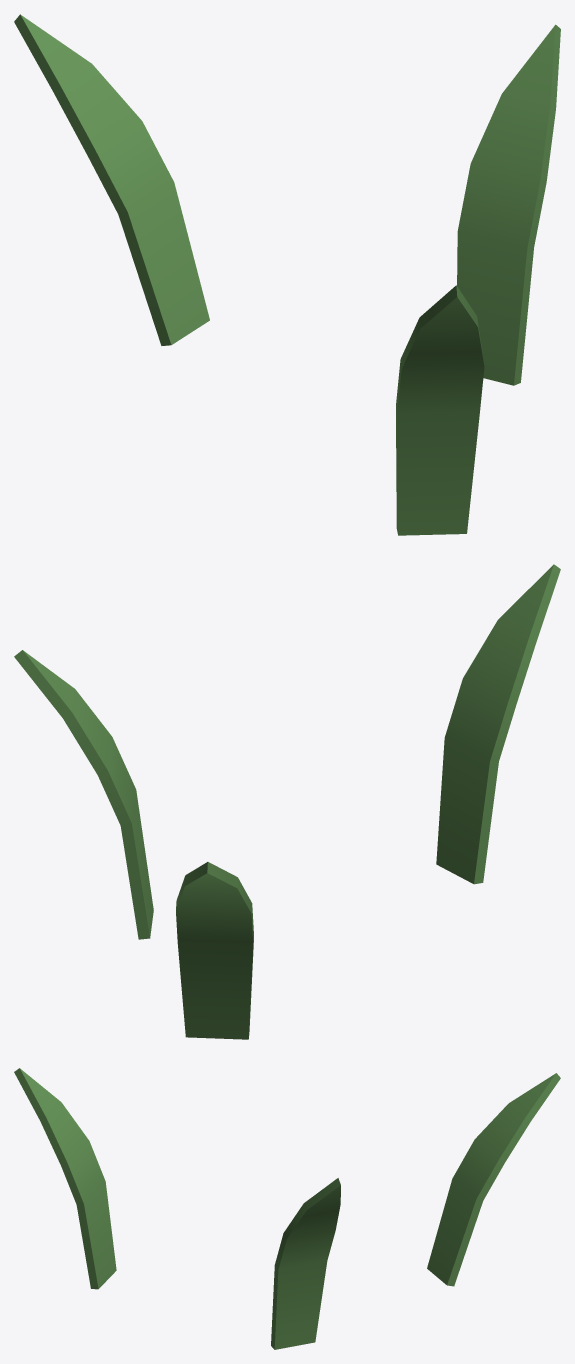
Rendered from Herbe_04.fbx.
The picture shows the model from 3 angles, top to bottom: view 1: azimuth 30°, elevation 25°; view 2: azimuth 150°, elevation 25°; view 3: azimuth 270°, elevation 25°; orthographic projection. The views are drawn at different scales.
Visible parts, largest first — view 1: Herbe_04; view 2: Herbe_04; view 3: Herbe_04.
Part boxes in pixels (x1,y1,x2,y2): Herbe_04: (14,14,560,535); Herbe_04: (14,564,560,1039); Herbe_04: (14,1068,560,1349).
Size of the model in its own units: 41.27 by 31.61 by 78.29.
Materials: 1 (1 with a texture image).
